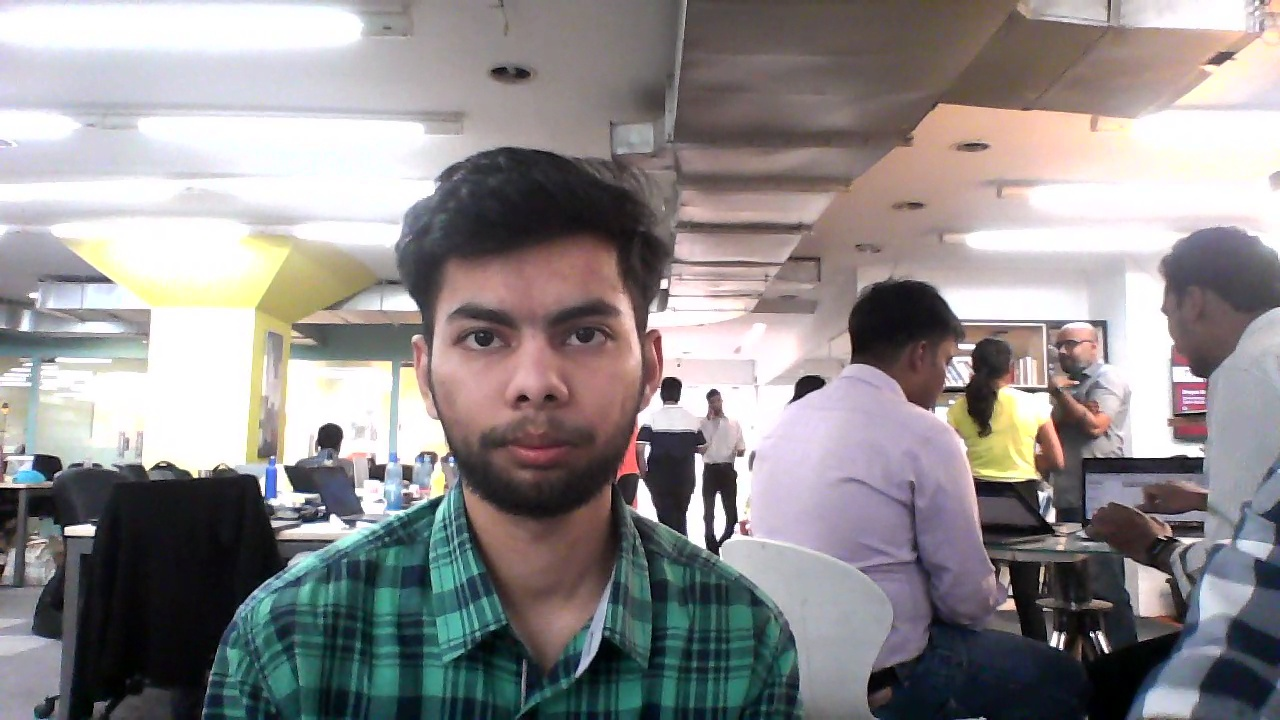open: (411, 150, 661, 510)
